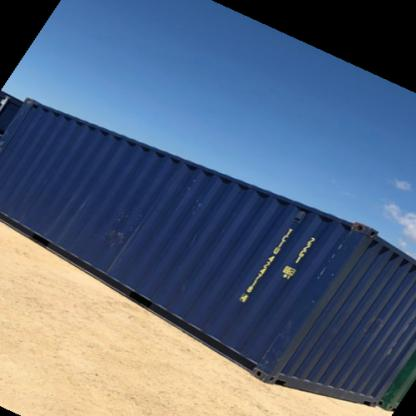Damage: (266, 216, 373, 366), (88, 211, 145, 267), (164, 174, 226, 220)
